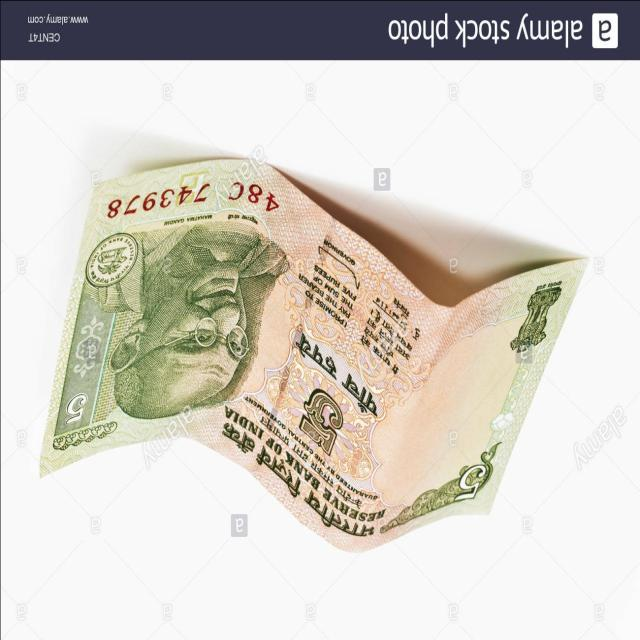5IndianRupees: (40, 162, 592, 543)
